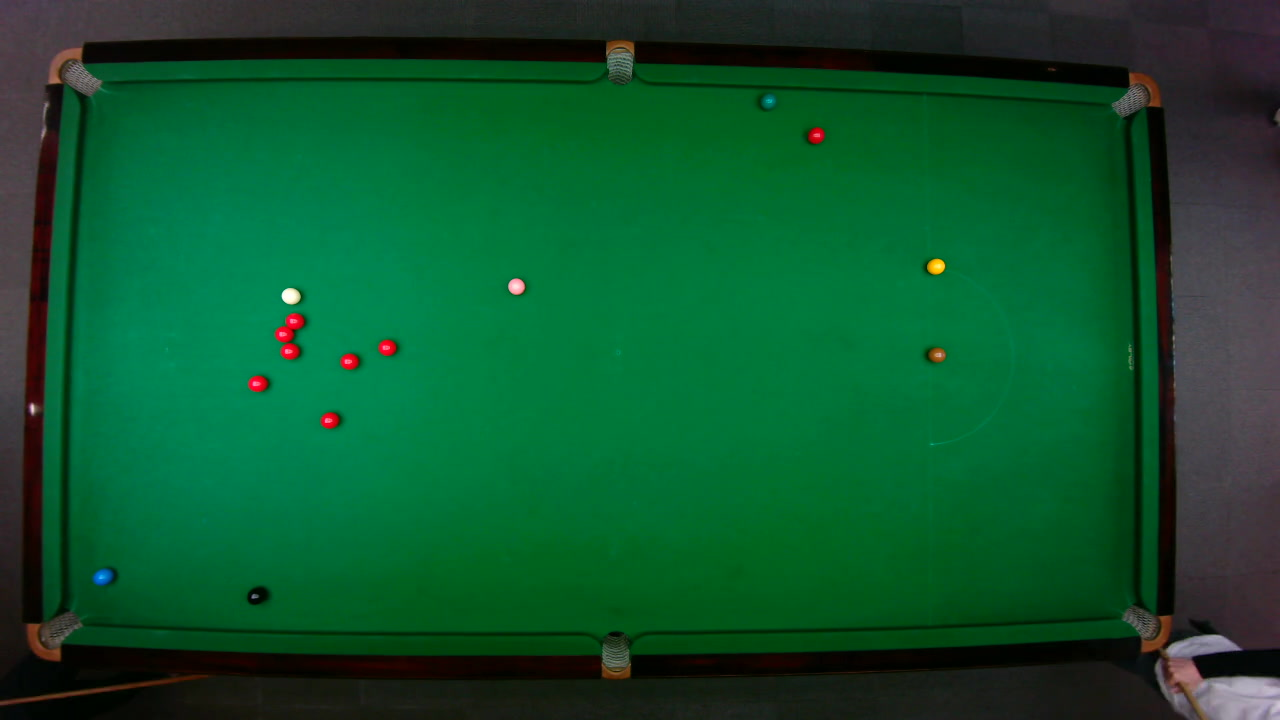bag: (25, 609, 84, 661), (45, 46, 102, 96), (1119, 603, 1172, 652), (1108, 71, 1161, 118), (600, 629, 629, 680), (605, 38, 633, 85)
black: (246, 586, 266, 605)
blue: (91, 566, 114, 585)
brown: (926, 346, 946, 362)
green: (759, 92, 776, 110)
pink: (506, 276, 525, 295)
red: (318, 410, 340, 429), (246, 374, 268, 392), (376, 338, 397, 356), (278, 342, 300, 359), (284, 312, 304, 330), (338, 352, 359, 369), (806, 126, 825, 144), (273, 325, 293, 342)
white: (280, 286, 301, 304)
yellow: (925, 257, 945, 274)
zone: (926, 266, 1013, 445)
